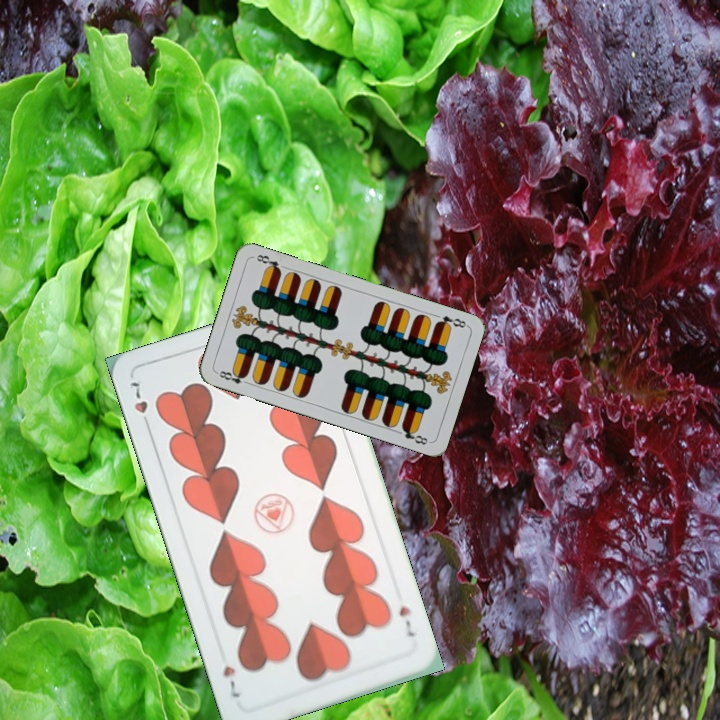E8: (213, 366, 252, 387), (431, 311, 470, 331)
H7: (127, 378, 154, 432), (395, 602, 418, 639)
